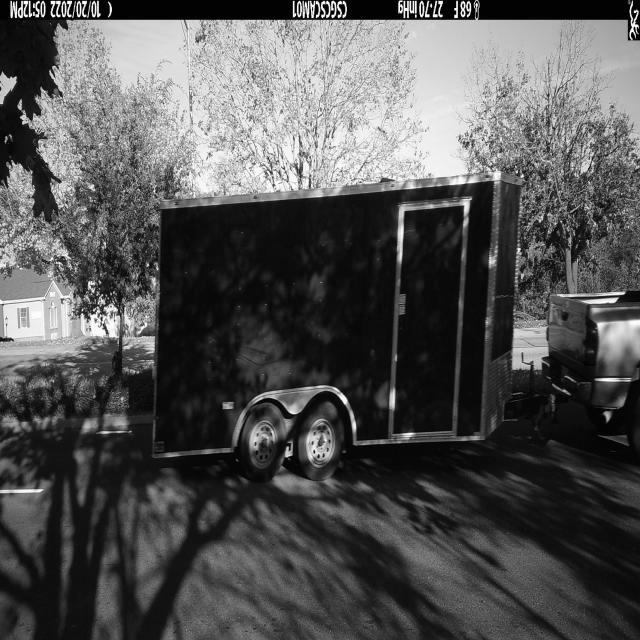Trailer: (151, 176, 550, 485)
